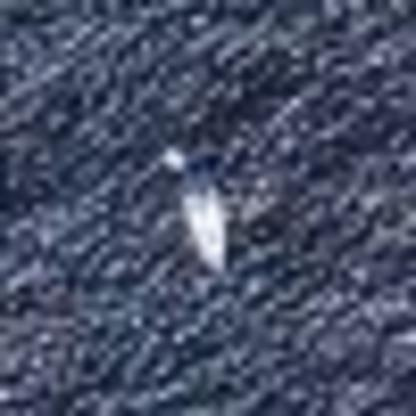ship: (155, 140, 245, 280)
